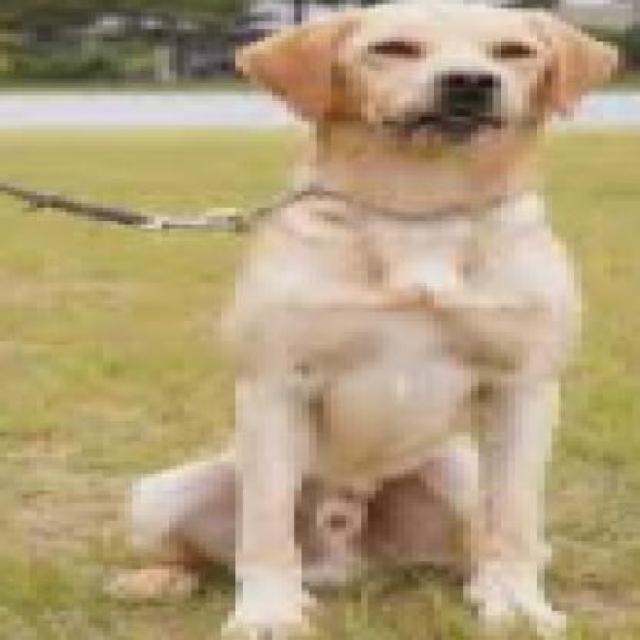Dog: (103, 1, 623, 638)
